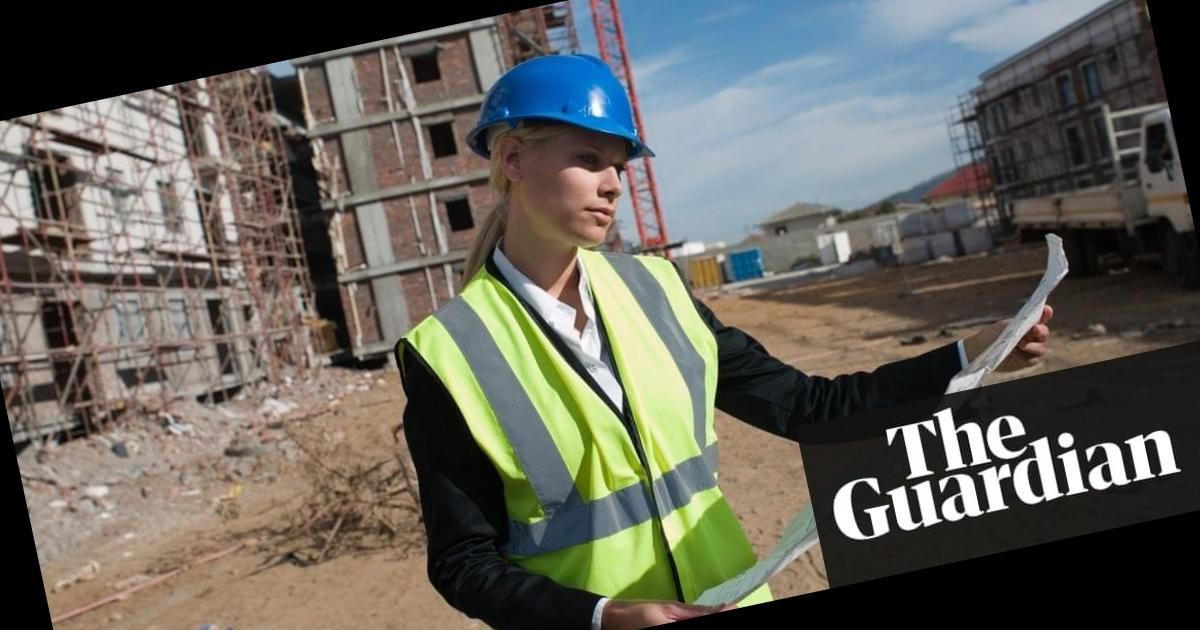Vest: (406, 224, 750, 630)
